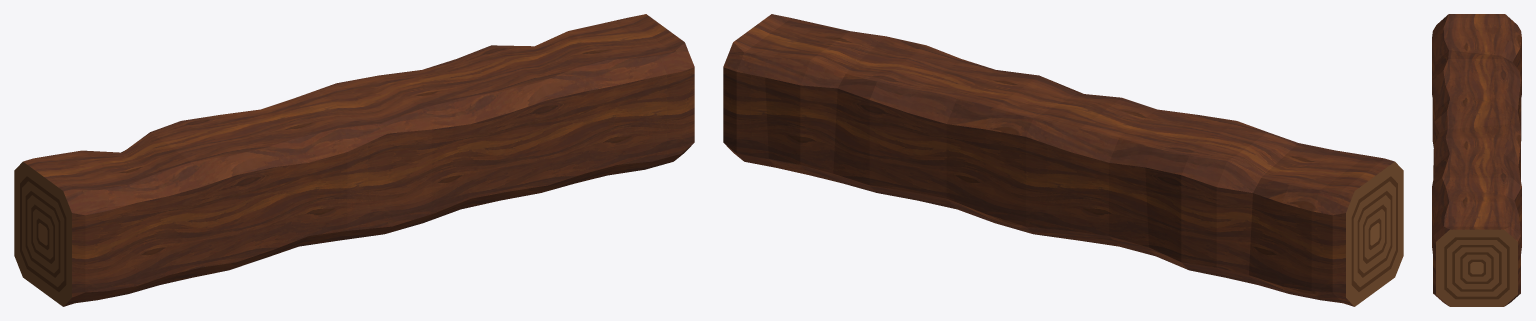
The model's file is timber_beam.glb.
The picture shows the model from 3 angles, left to right: view 1: azimuth 30°, elevation 25°; view 2: azimuth 150°, elevation 25°; view 3: azimuth 270°, elevation 25°; orthographic projection. The views are drawn at different scales.
Visible parts, largest first — view 1: timber_beam; view 2: timber_beam; view 3: timber_beam.
Boxes of the visible parts, x1,y1,x2,y2 form: timber_beam: (14, 14, 694, 306); timber_beam: (723, 14, 1403, 306); timber_beam: (1432, 14, 1521, 306).
Size of the model in its own units: 2.1 by 0.38 by 0.375.
Materials: 4 (1 with a texture image).
